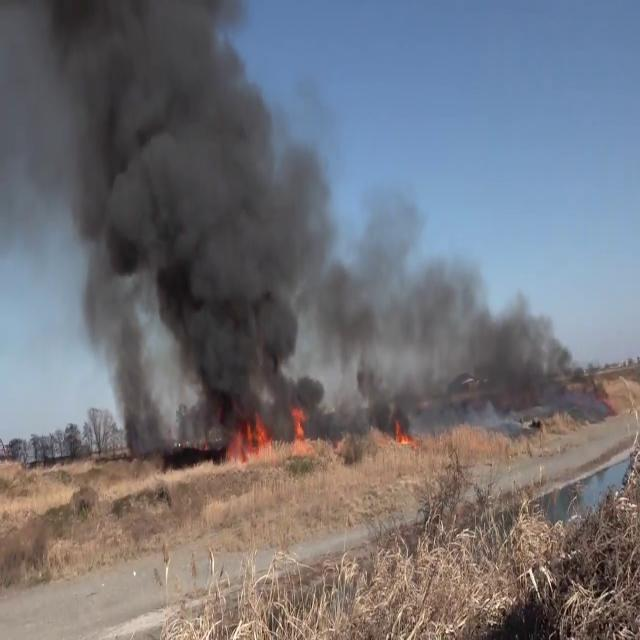Fire: (223, 402, 277, 467), (286, 400, 318, 458), (391, 408, 416, 449)
Smoke: (10, 0, 318, 440), (314, 196, 591, 422)
